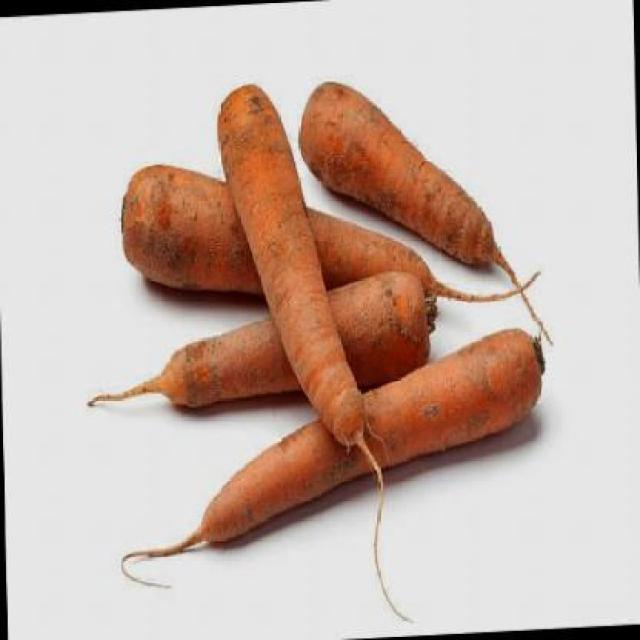carrot: (193, 325, 549, 550), (217, 76, 366, 459), (118, 150, 437, 321), (85, 268, 432, 414), (296, 69, 495, 274)
